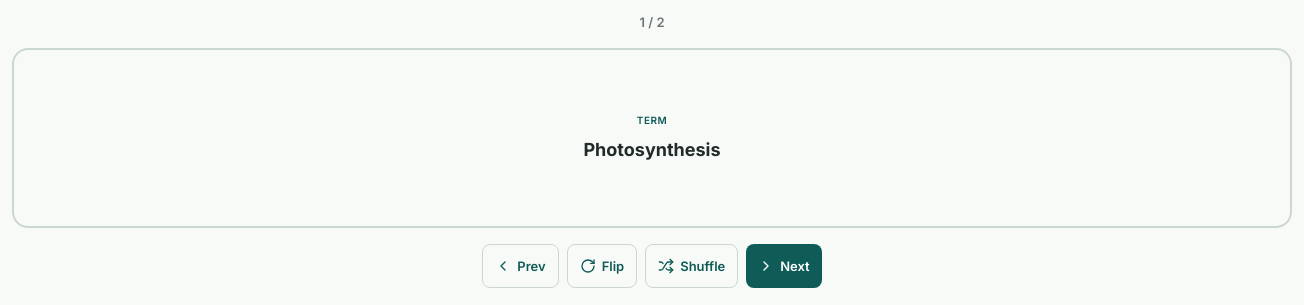
Scenario: Flashcards › Next/Prev wrap around and always reset to showing the term
Click the button with aria-label "showing term" at (652, 138), box [12,48,1292,228]
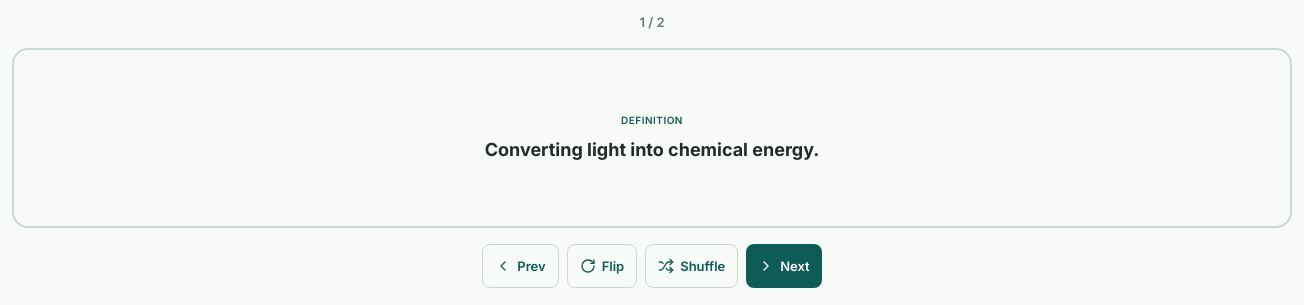
Click the button "Next" at (784, 266), box [746,244,822,288]
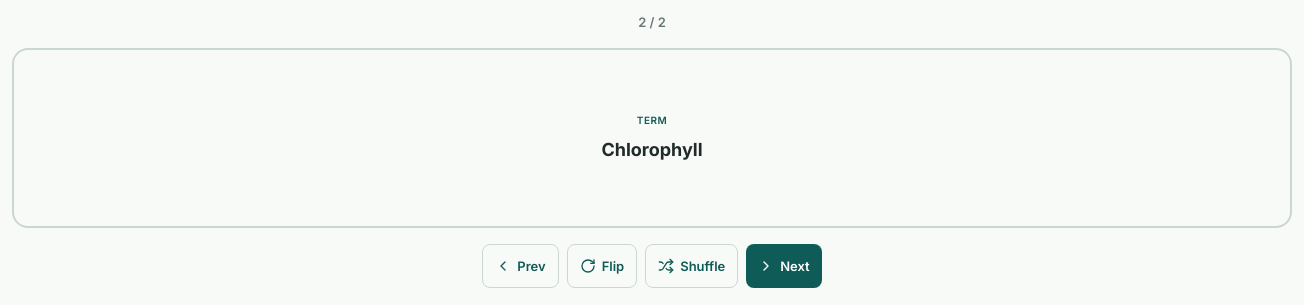
Check: the text "2 / 2" is shown, box [638,12,666,32]
Check: the text "Chlorophyll" is shown, box [601,136,703,164]
Click the button "Next" at (784, 266), box [746,244,822,288]
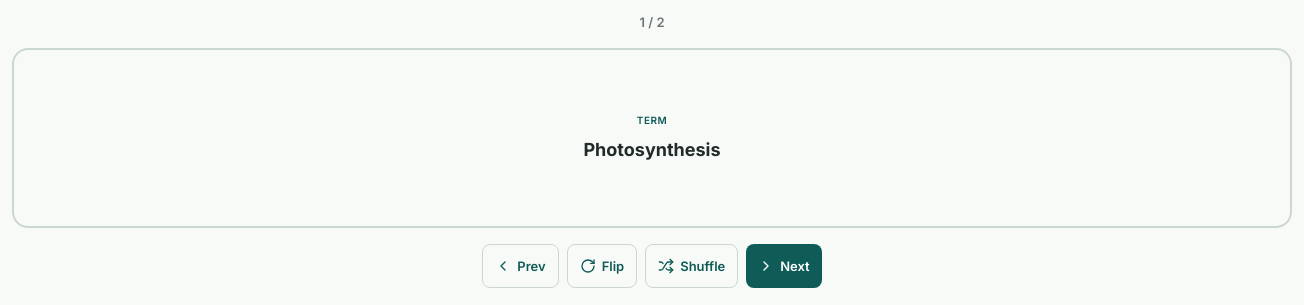
Check: the text "1 / 2" is shown, box [640,12,665,32]
Click the button "Prev" at (520, 266), box [482,244,559,288]
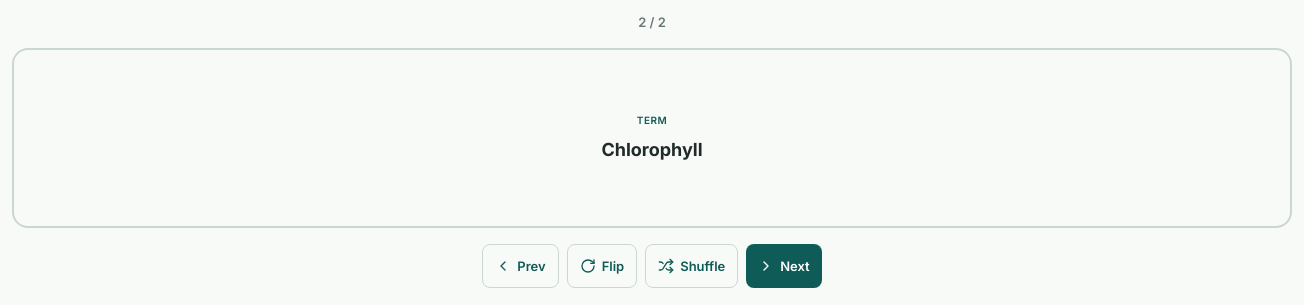
Check: the text "2 / 2" is shown, box [638,12,666,32]
